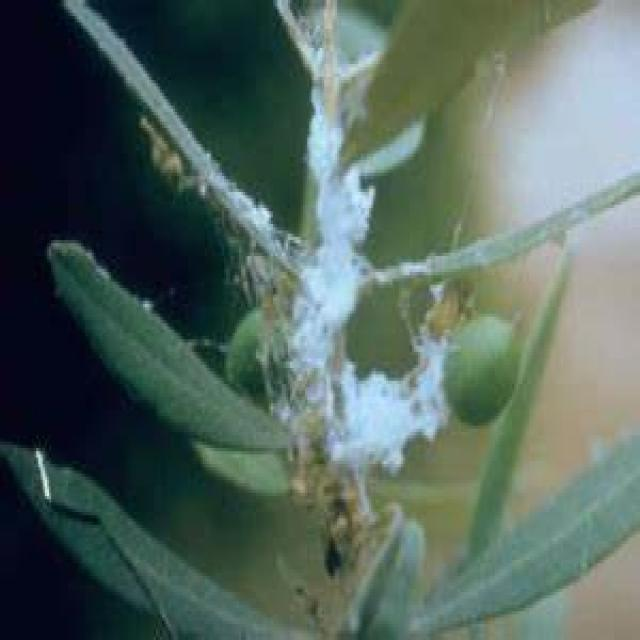Psyllid: (245, 244, 446, 496), (307, 10, 386, 278)
